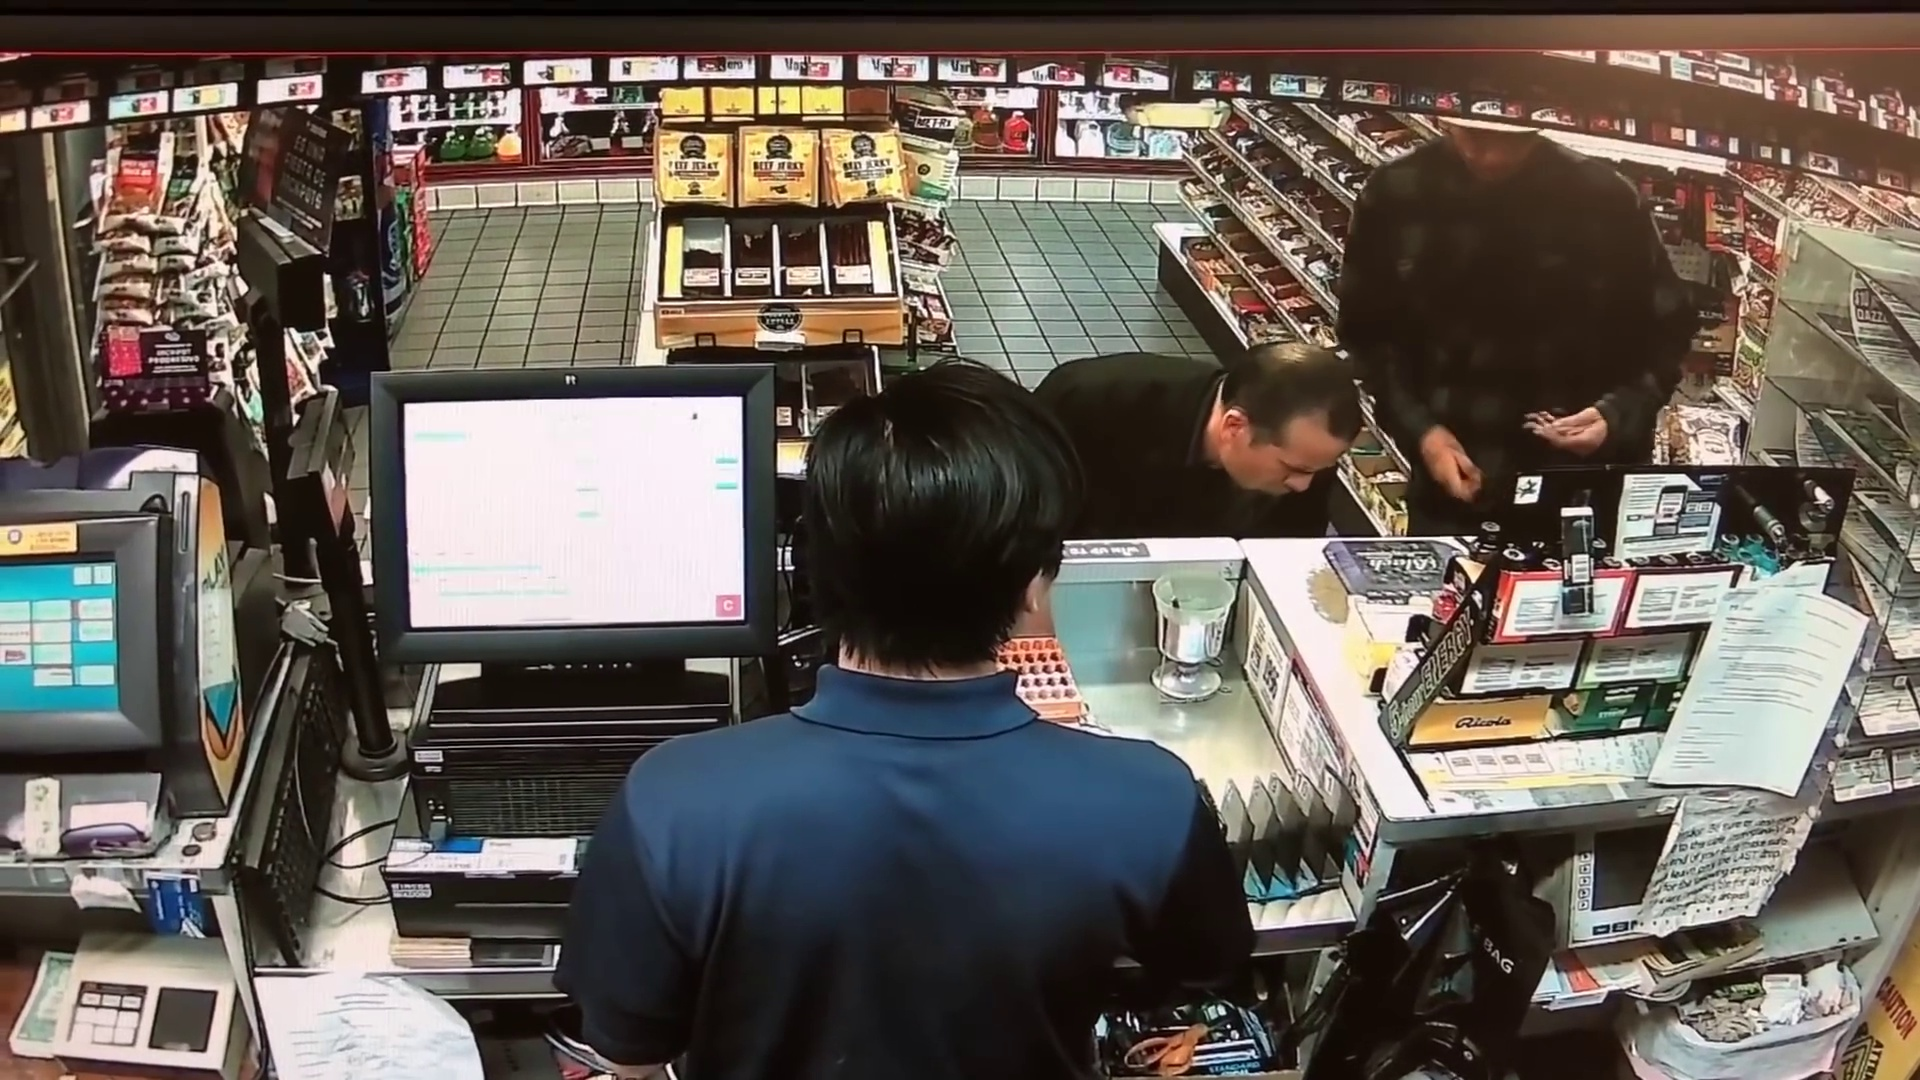face: (1219, 392, 1342, 509), (1449, 128, 1543, 182)
